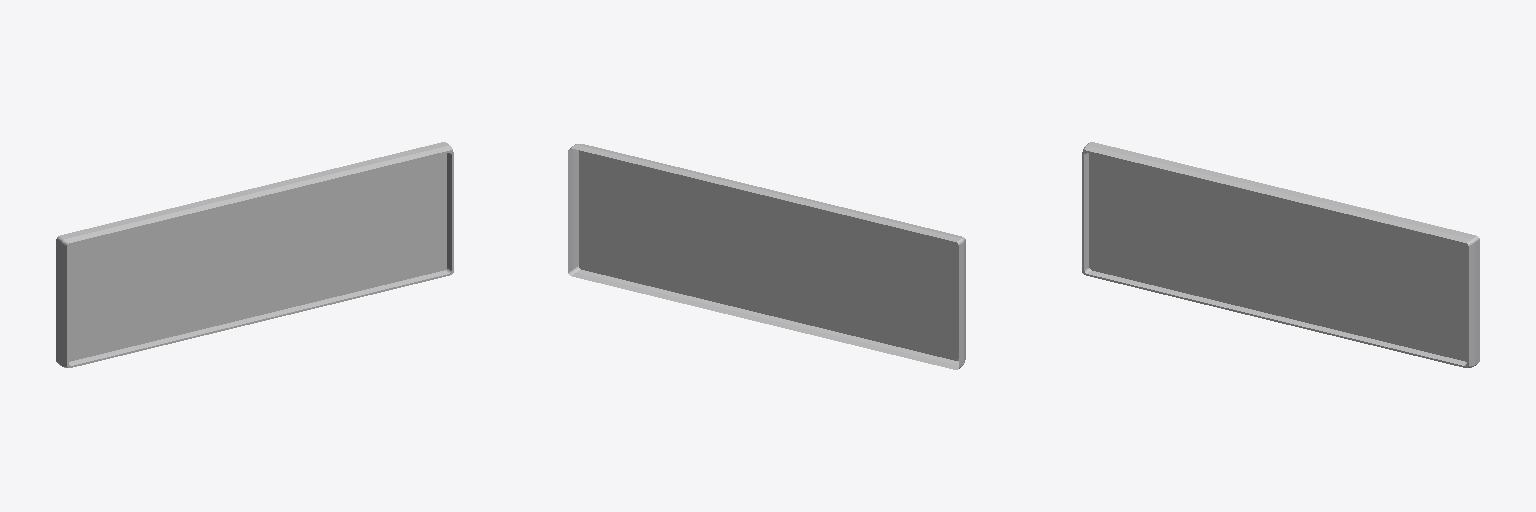
The model's file is Chapa Mercosur ParaguayV1.obj.
3 views of the same model, side by side, from view 1: azimuth 30°, elevation 25°; view 2: azimuth 150°, elevation 25°; view 3: azimuth 330°, elevation 25° (orthographic).
Parts seen in each view (by area): view 1: default; view 2: default; view 3: default.
Part boxes in pixels (x1,y1,x2,y2): default: (56,142,453,367); default: (568,144,965,369); default: (1082,142,1479,367).
Bounding box in the file's own units: 0.6519 × 0.2043 × 0.0258.